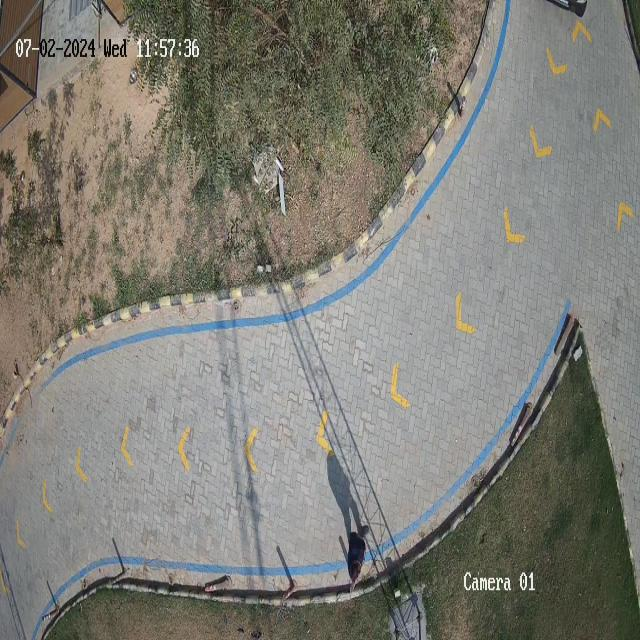car: (551, 0, 588, 18)
